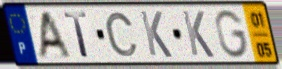A: (36, 9, 73, 61)
C: (104, 11, 140, 59)
G: (213, 8, 250, 60)
K: (138, 9, 175, 60), (180, 9, 216, 60)
T: (62, 10, 91, 59)
